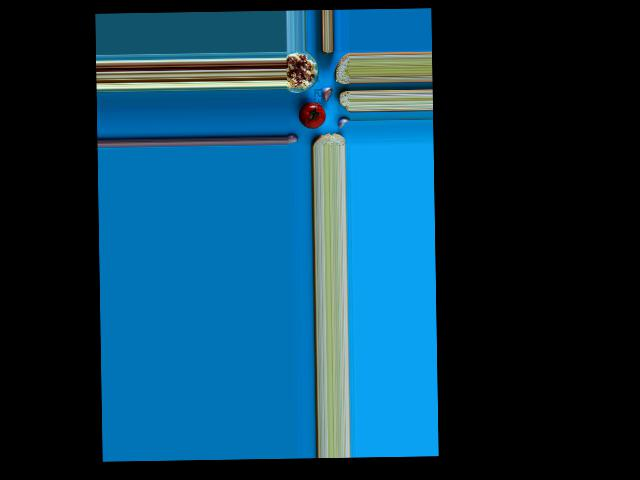tomato: (298, 103, 325, 129)
